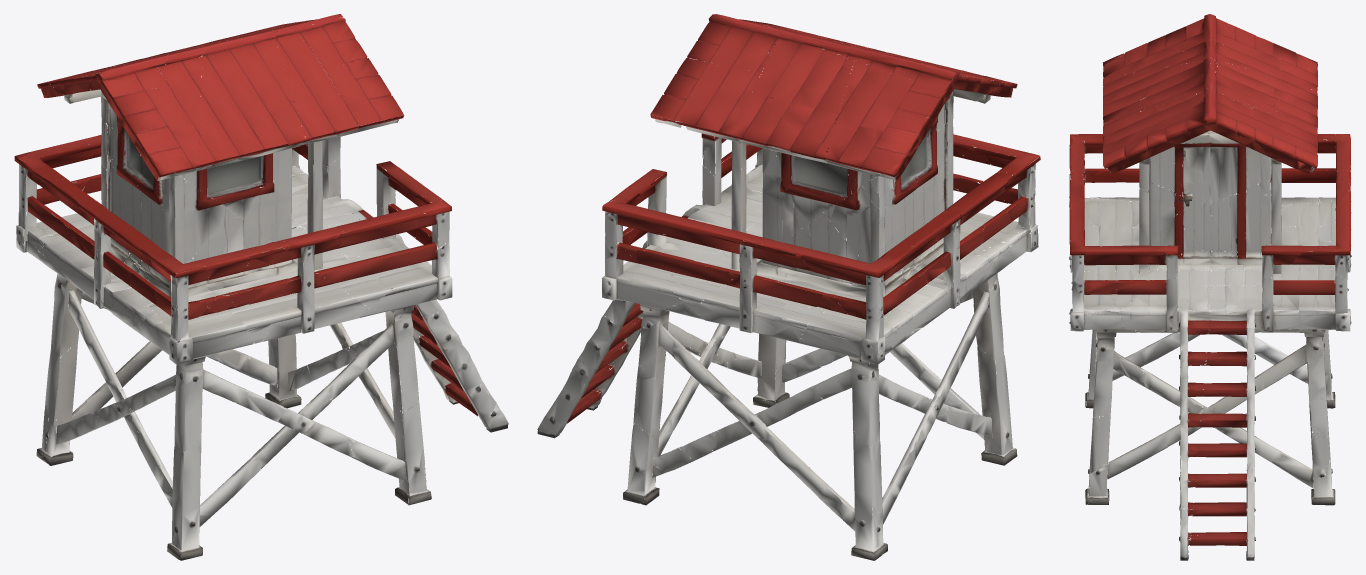
Rendered from lifeguard.glb.
3 views of the same model, side by side, from view 1: azimuth 30°, elevation 25°; view 2: azimuth 150°, elevation 25°; view 3: azimuth 270°, elevation 25° (orthographic). The views are drawn at different scales.
Parts seen in each view (by area): view 1: tripo_node_e5b2bbbe-42f5-4a80-9f30-ab0ec52138d8; view 2: tripo_node_e5b2bbbe-42f5-4a80-9f30-ab0ec52138d8; view 3: tripo_node_e5b2bbbe-42f5-4a80-9f30-ab0ec52138d8.
Boxes of the visible parts, box(x1,y1,x2,y2) form: tripo_node_e5b2bbbe-42f5-4a80-9f30-ab0ec52138d8: box(14, 14, 508, 560); tripo_node_e5b2bbbe-42f5-4a80-9f30-ab0ec52138d8: box(537, 14, 1040, 560); tripo_node_e5b2bbbe-42f5-4a80-9f30-ab0ec52138d8: box(1069, 14, 1351, 560).
Size of the model in its own units: 0.9468 by 1 by 0.6707.
Materials: 1 (1 with a texture image).
